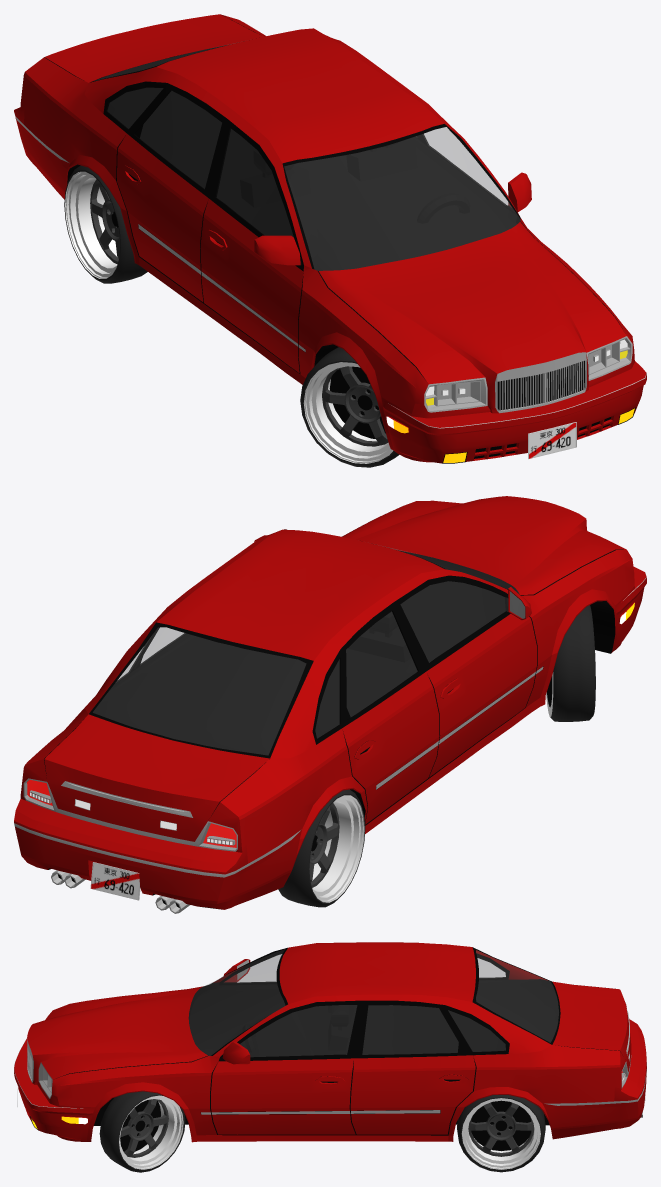
3 views of the same model, one above another, from view 1: azimuth 30°, elevation 25°; view 2: azimuth 150°, elevation 25°; view 3: azimuth 270°, elevation 25° (orthographic). The views are drawn at different scales.
Visible parts, largest first — view 1: CarBody_6, FrontRightWheel_2, RearRightWheel_3, FrontLicensePlate_4; view 2: CarBody_6, RearRightWheel_3, FrontRightWheel_2, RearLicensePlate_5; view 3: CarBody_6, RearLeftWheel_1, FrontLeftWheel_0.
Part boxes in pixels (bbox=[...]): CarBody_6: bbox=[14, 14, 646, 463]; FrontRightWheel_2: bbox=[300, 347, 399, 467]; RearRightWheel_3: bbox=[64, 165, 147, 283]; FrontLicensePlate_4: bbox=[528, 422, 576, 459]; CarBody_6: bbox=[14, 496, 646, 913]; RearRightWheel_3: bbox=[278, 789, 365, 907]; FrontRightWheel_2: bbox=[546, 605, 595, 721]; RearLicensePlate_5: bbox=[90, 862, 140, 900]; CarBody_6: bbox=[14, 942, 646, 1142]; RearLeftWheel_1: bbox=[457, 1095, 545, 1172]; FrontLeftWheel_0: bbox=[99, 1091, 185, 1172].
Bounding box in the file's own units: 1.94 × 1.45 × 5.06.
Materials: 12 (1 with a texture image).
